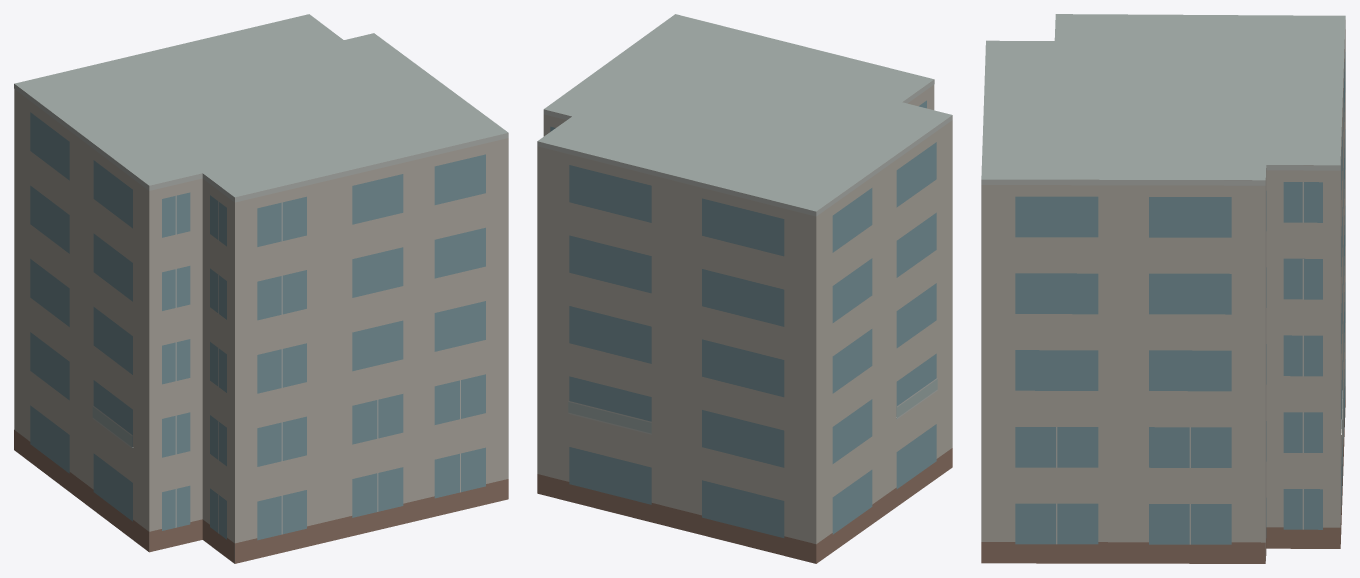
Rendered from survey-upis-32577212.glb.
The picture shows the model from 3 angles, left to right: view 1: azimuth 30°, elevation 25°; view 2: azimuth 150°, elevation 25°; view 3: azimuth 270°, elevation 25°; orthographic projection. The views are drawn at different scales.
Visible parts, largest first — view 1: survey-upis-32577212.tmp; view 2: survey-upis-32577212.tmp; view 3: survey-upis-32577212.tmp.
Boxes of the visible parts, x1,y1,x2,y2 form: survey-upis-32577212.tmp: (14, 14, 508, 563); survey-upis-32577212.tmp: (537, 14, 952, 563); survey-upis-32577212.tmp: (981, 14, 1345, 563).
Size of the model in its own units: 16.06 by 17.27 by 14.87.
